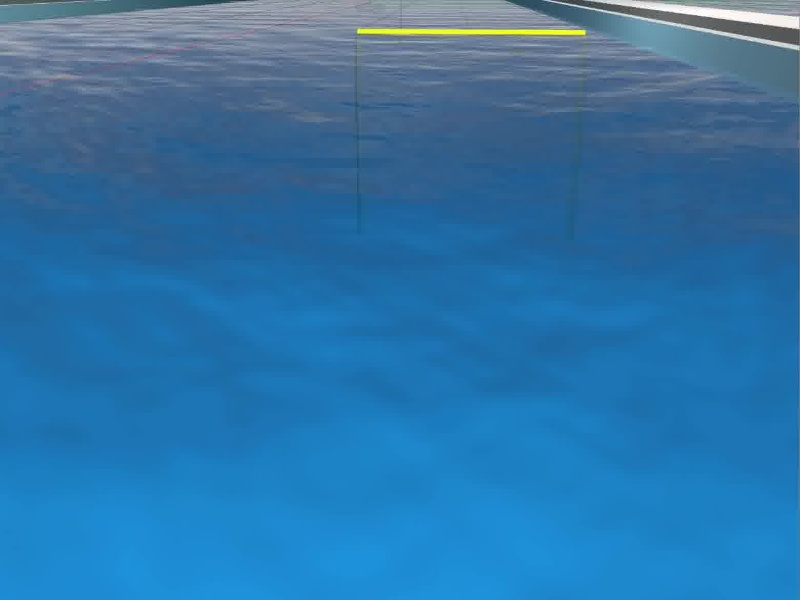gate: (353, 26, 591, 239)
